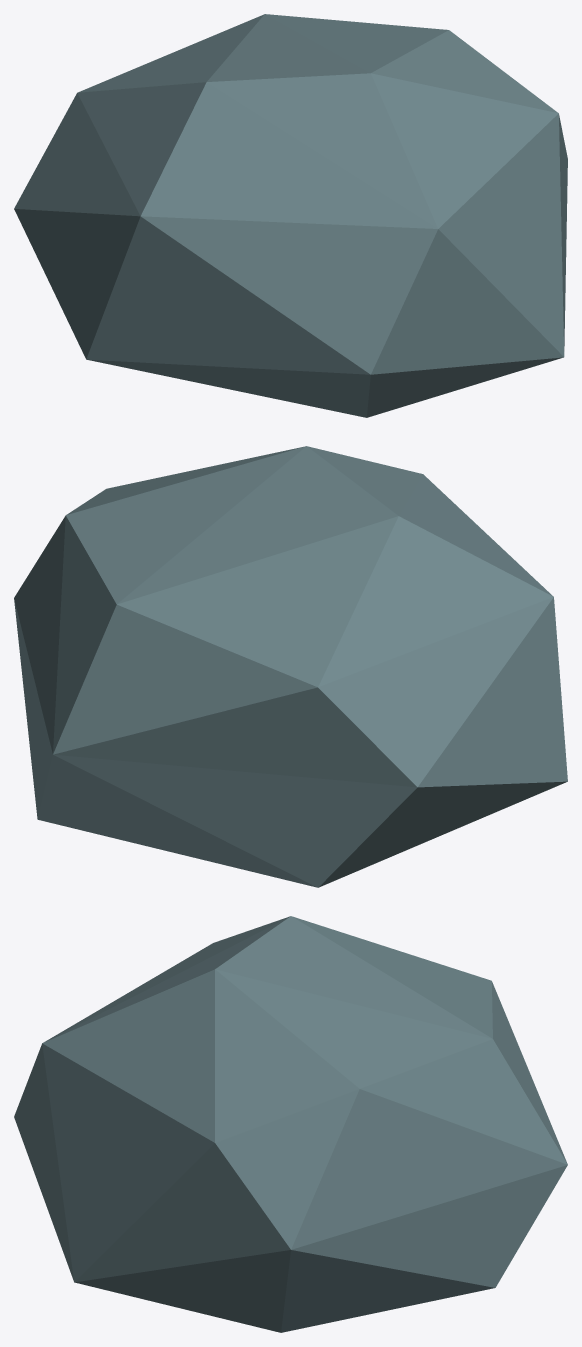
The model's file is stone1.fbx.
3 renders of one model, top to bottom at view 1: azimuth 30°, elevation 25°; view 2: azimuth 150°, elevation 25°; view 3: azimuth 270°, elevation 25°, orthographic. The views are drawn at different scales.
Visible parts, largest first — view 1: Icosphere; view 2: Icosphere; view 3: Icosphere.
Part boxes in pixels (x1,y1,x2,y2): Icosphere: (14, 14, 567, 417); Icosphere: (14, 446, 567, 887); Icosphere: (14, 916, 567, 1332).
Bounding box in the file's own units: 524 × 303 × 513.
